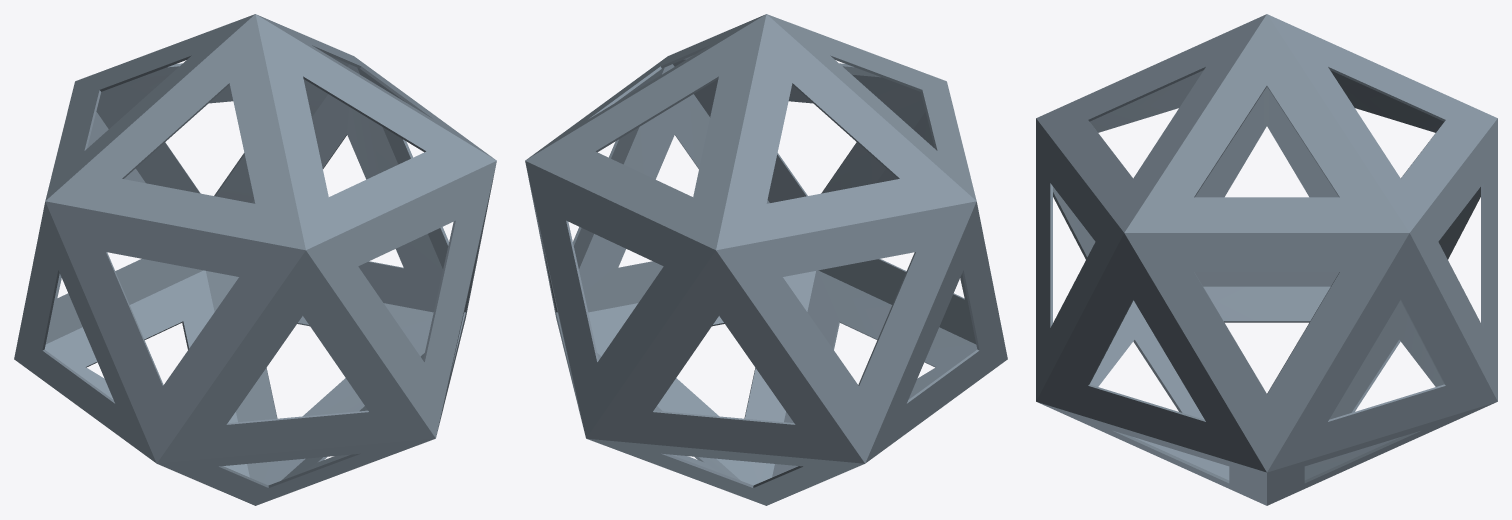
The model's file is gyrace-build-implosion.glb.
The picture shows the model from 3 angles, left to right: view 1: azimuth 30°, elevation 25°; view 2: azimuth 150°, elevation 25°; view 3: azimuth 270°, elevation 25°; orthographic projection.
Visible parts, largest first — view 1: implosion; view 2: implosion; view 3: implosion.
Boxes of the visible parts, x1=… form: implosion: x1=14, y1=14, x2=496, y2=505; implosion: x1=525, y1=14, x2=1007, y2=505; implosion: x1=1036, y1=14, x2=1497, y2=505.
Size of the model in its own units: 3.58 by 4 by 3.4.
